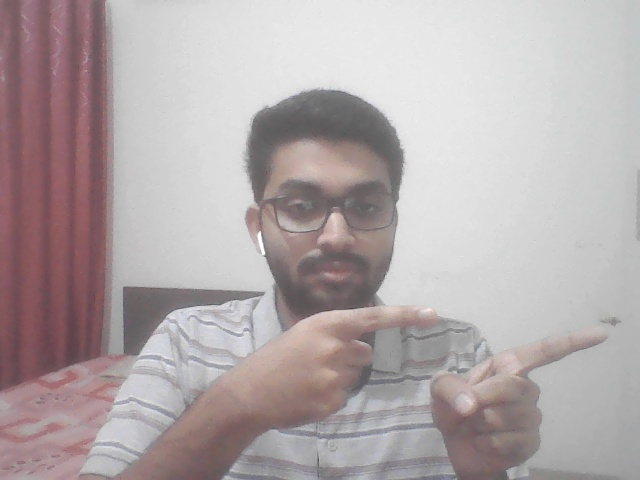go: (205, 296, 622, 480)
